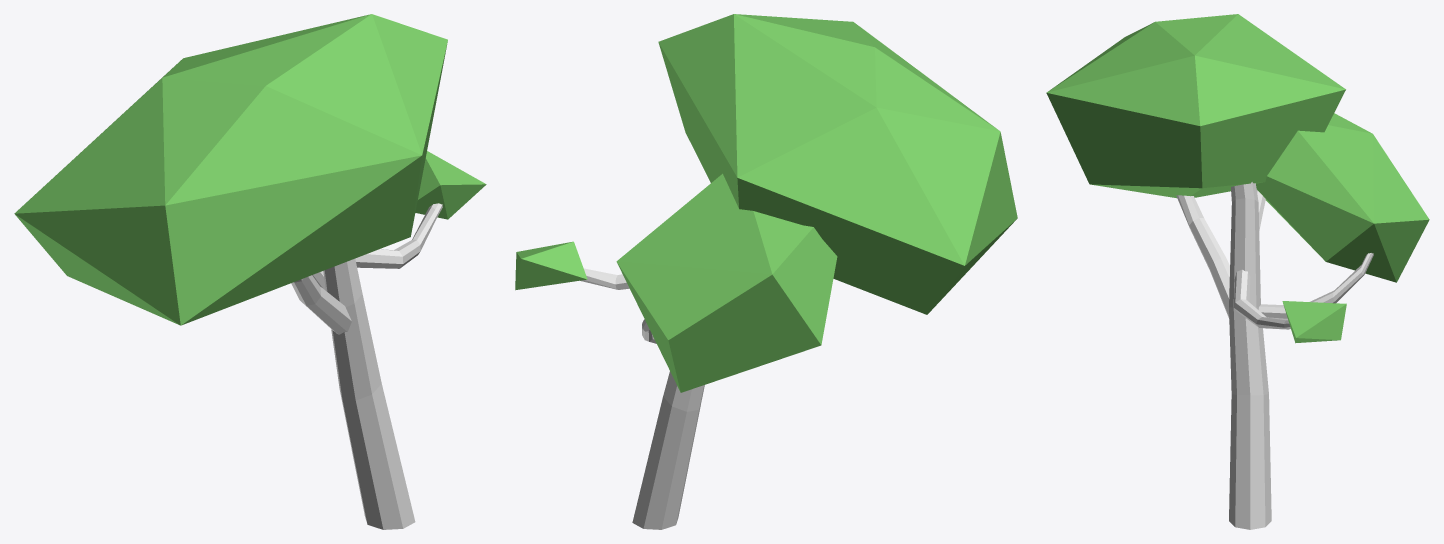
File: leaftree10.fbx
3 views of the same model, side by side, from view 1: azimuth 30°, elevation 25°; view 2: azimuth 150°, elevation 25°; view 3: azimuth 270°, elevation 25° (orthographic). The views are drawn at different scales.
Visible parts, largest first — view 1: Sphere; view 2: Sphere; view 3: Sphere.
Boxes of the visible parts, x1,y1,x2,y2 form: Sphere: (14, 14, 486, 529); Sphere: (515, 14, 1017, 529); Sphere: (1046, 14, 1429, 529).
Size of the model in its own units: 626 by 673 by 526.
